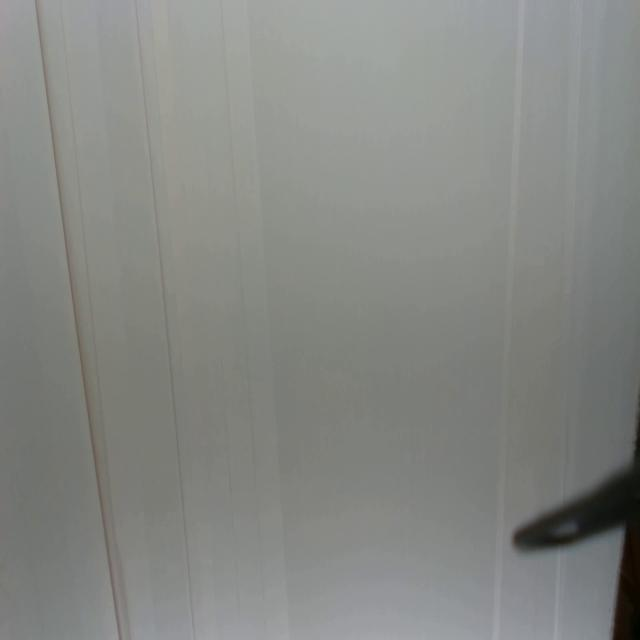crease: (35, 0, 132, 640), (134, 0, 197, 640), (220, 0, 263, 571), (495, 0, 527, 524), (562, 0, 588, 480), (220, 400, 243, 616), (492, 484, 507, 640), (553, 548, 564, 639)
